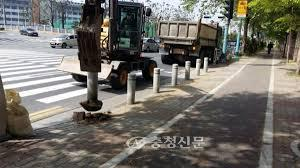Animal: (125, 71, 139, 113), (166, 64, 186, 93), (150, 66, 165, 95), (182, 60, 196, 83), (203, 58, 213, 77), (194, 58, 203, 79)
